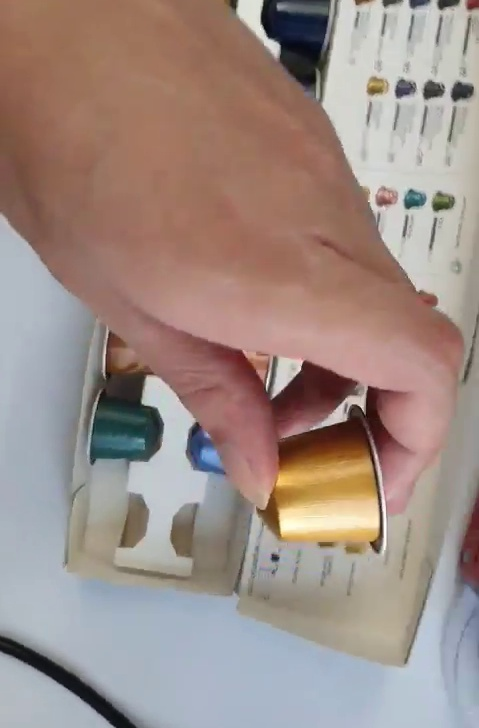capsule_8: (252, 400, 390, 559)
